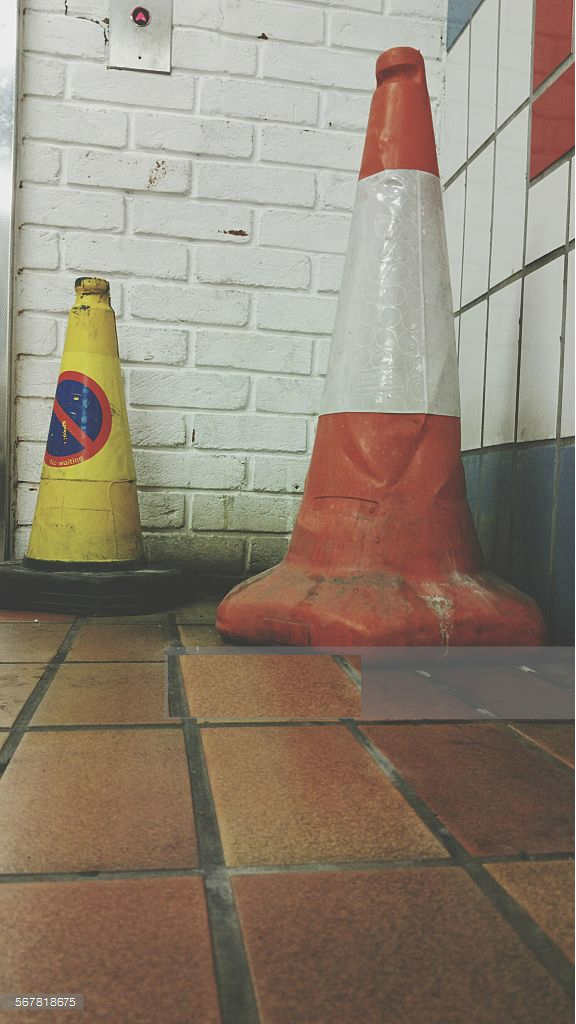trafficcone: (212, 47, 544, 646), (1, 273, 194, 618)
